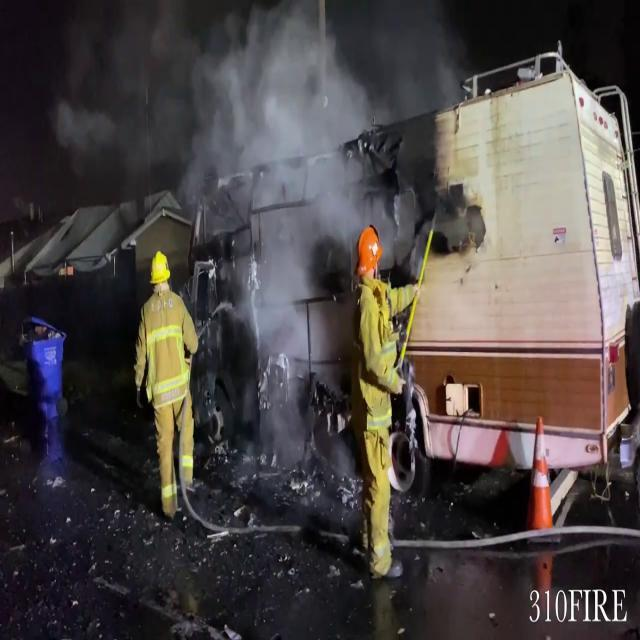Smoke: (194, 2, 407, 336)
